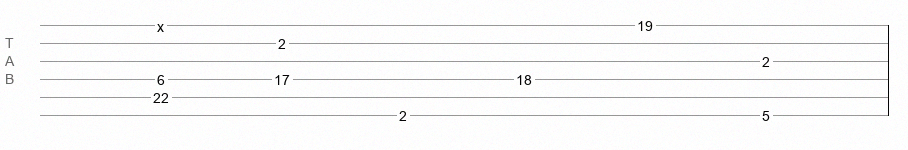17: (274, 72, 290, 82)
18: (516, 72, 532, 82)
19: (637, 18, 653, 28)
2: (278, 36, 286, 46), (399, 108, 407, 118), (762, 54, 770, 64)
22: (153, 90, 169, 100)
5: (762, 108, 770, 118)
6: (157, 72, 165, 82)
x: (157, 19, 164, 27)
